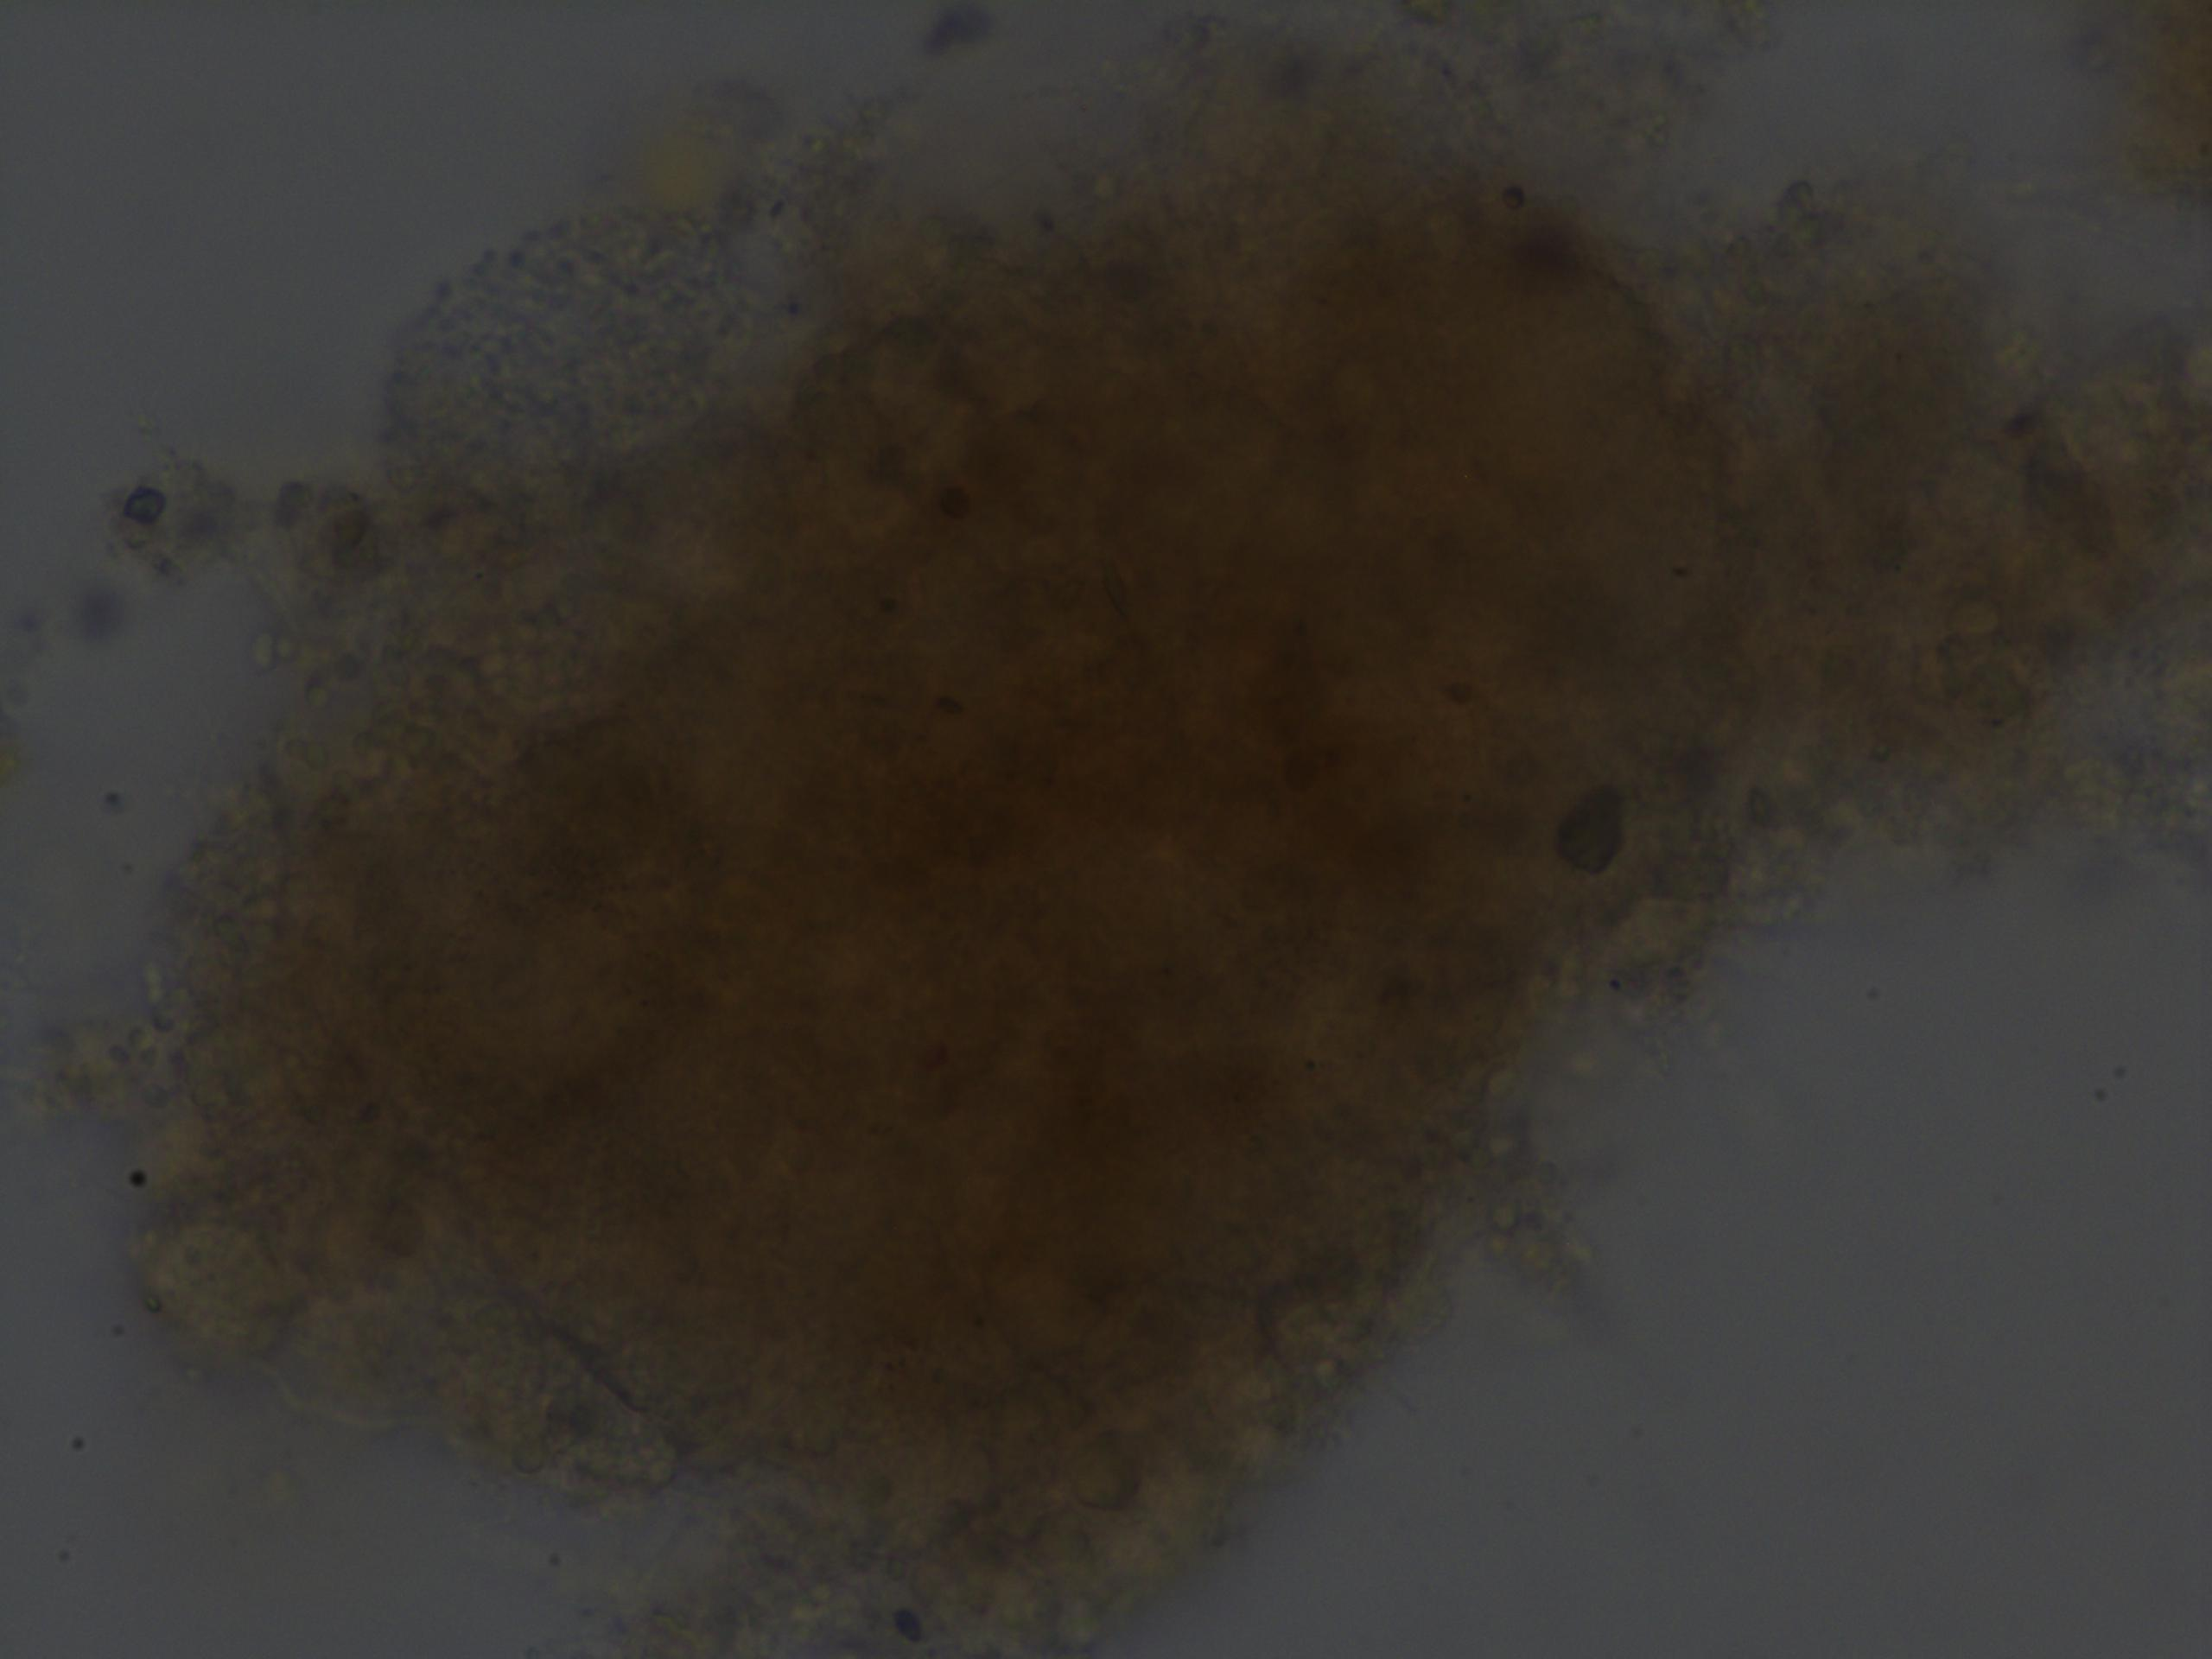spherical_floc: (113, 85, 1789, 1647)
